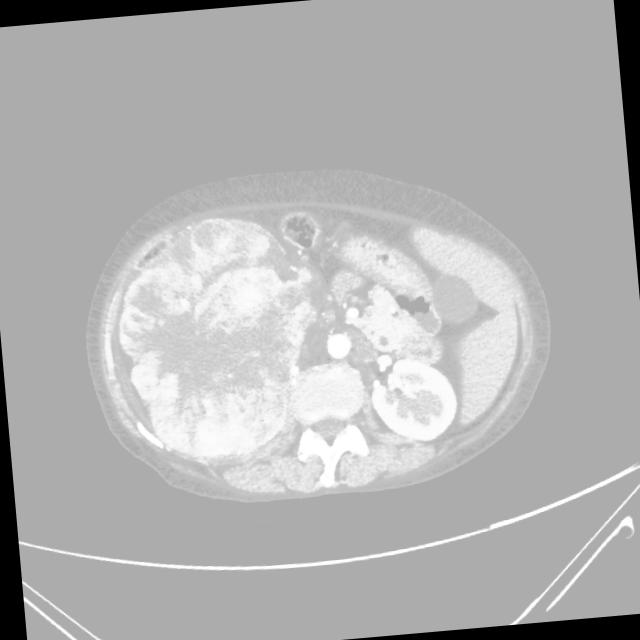TUMOR: (247, 229, 548, 480)
